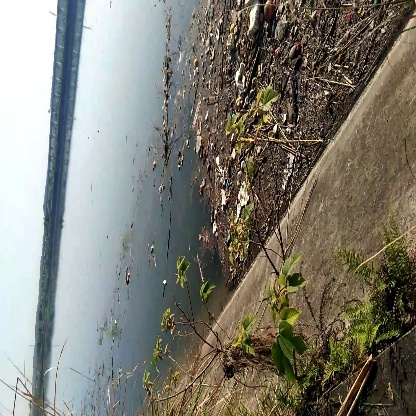plastic-garbage: (242, 1, 267, 38)
